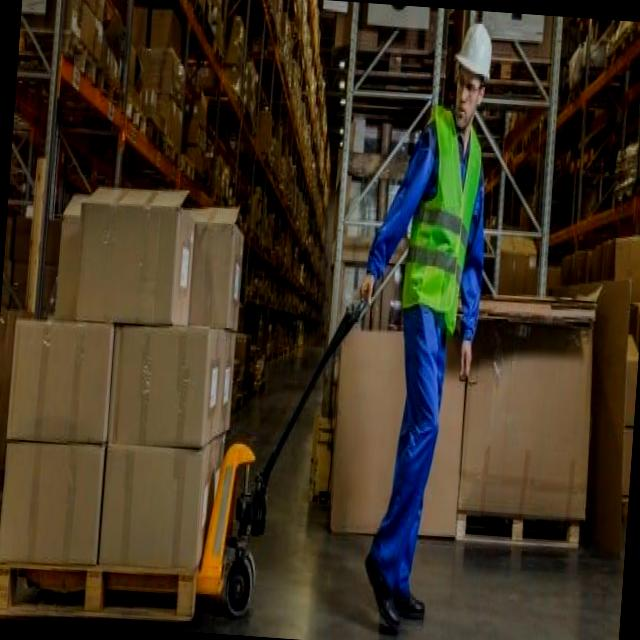helmet: (454, 17, 500, 94)
vest: (379, 98, 493, 334)
